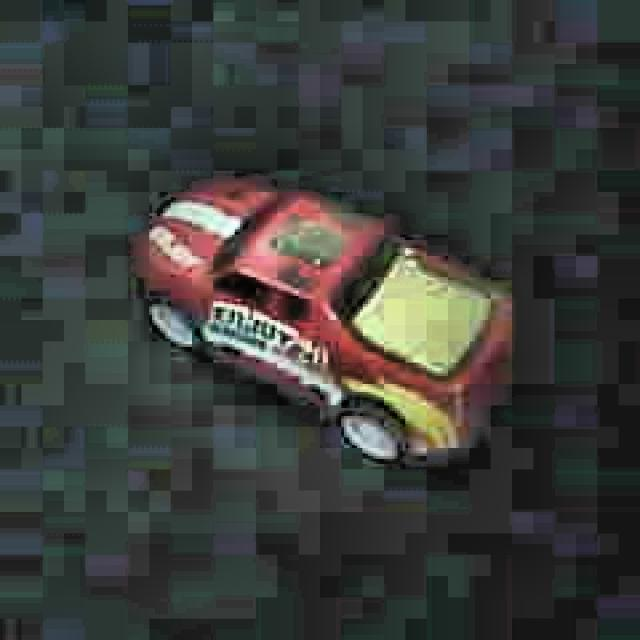car: (135, 170, 526, 470)
